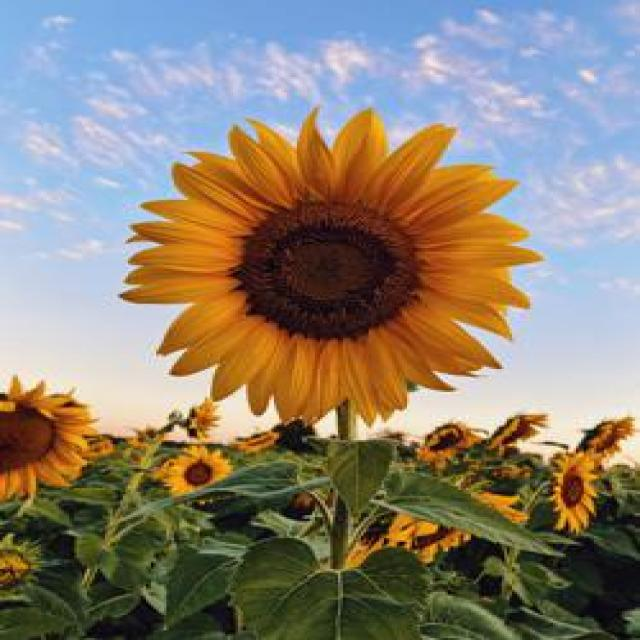sunflower: (106, 97, 557, 428), (0, 360, 115, 502), (384, 478, 525, 578), (534, 439, 616, 543), (471, 402, 550, 459), (154, 442, 228, 500), (570, 405, 636, 466), (408, 413, 482, 465)
